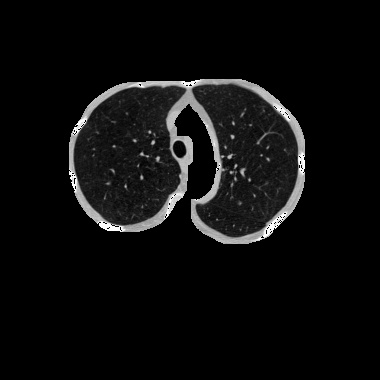PN: (237, 201, 241, 205)
